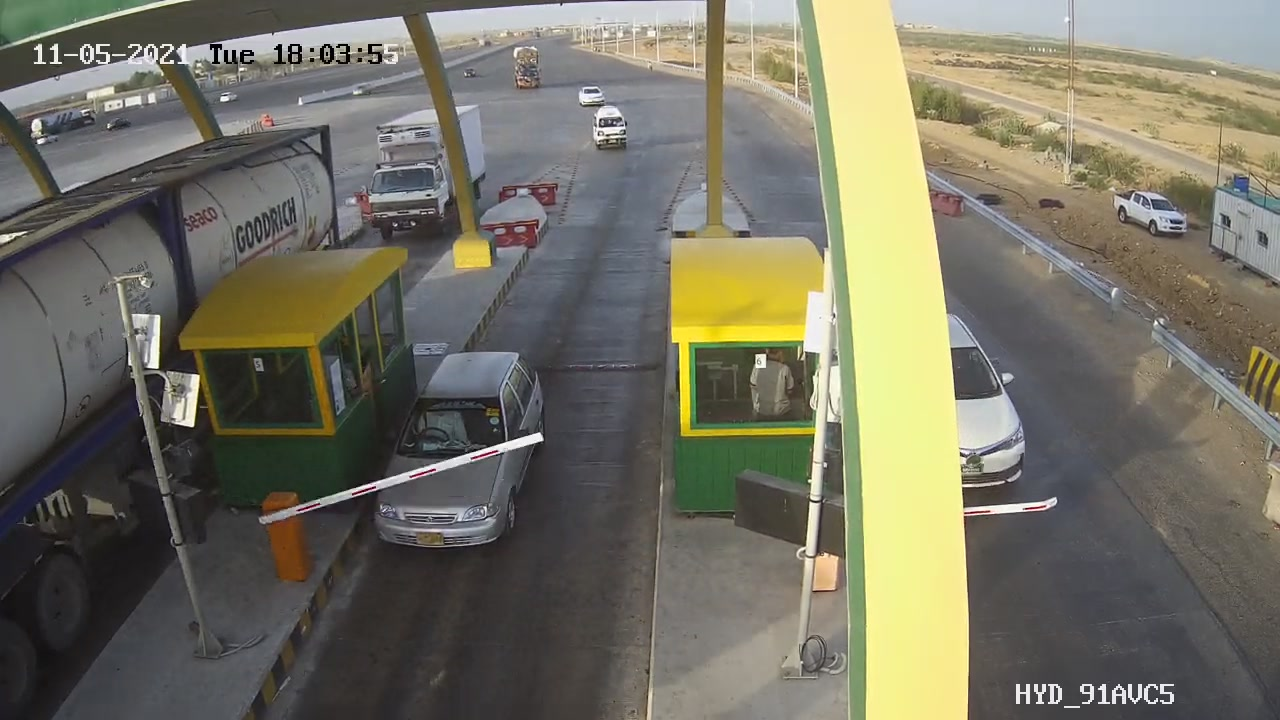F1: (356, 331, 569, 565)
